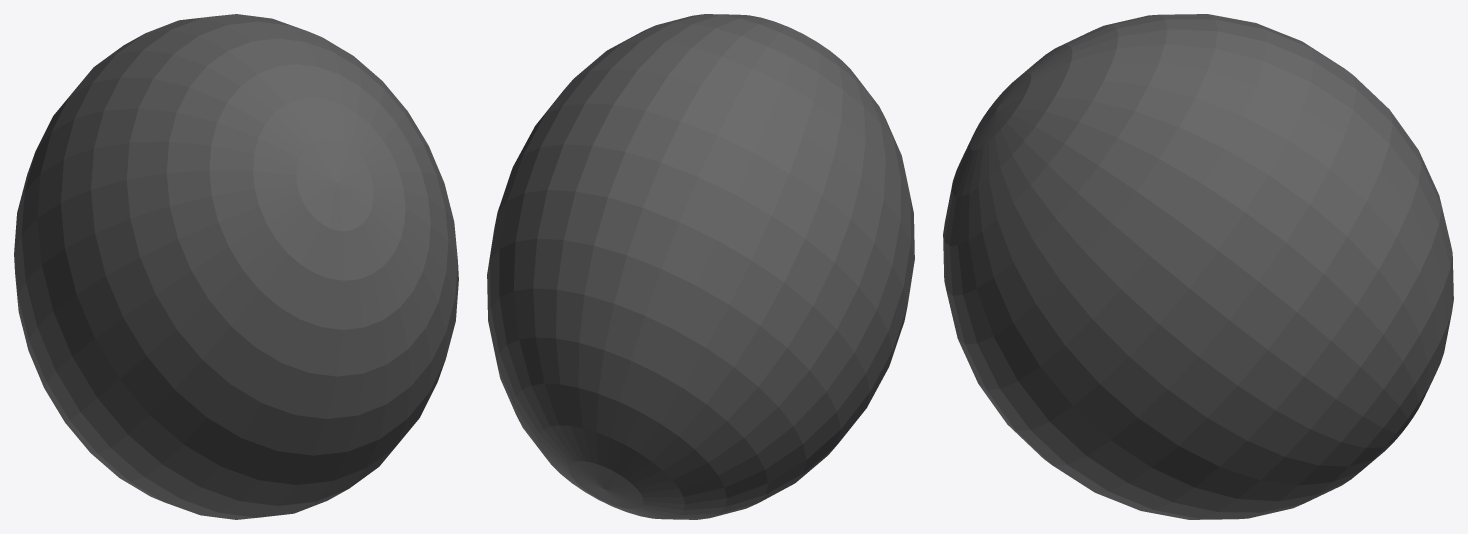
File: link_leg_0_R_2_composite.obj
3 renders of one model, left to right at view 1: azimuth 30°, elevation 25°; view 2: azimuth 150°, elevation 25°; view 3: azimuth 270°, elevation 25°, orthographic. The views are drawn at different scales.
Visible parts, largest first — view 1: link_leg_0_R_2; view 2: link_leg_0_R_2; view 3: link_leg_0_R_2.
Boxes of the visible parts, x1,y1,x2,y2 form: link_leg_0_R_2: [14, 14, 458, 519]; link_leg_0_R_2: [487, 14, 914, 519]; link_leg_0_R_2: [943, 14, 1453, 519].
Bounding box in the file's own units: 3.36 × 4.15 × 4.05.
1 material, 1 textured.
